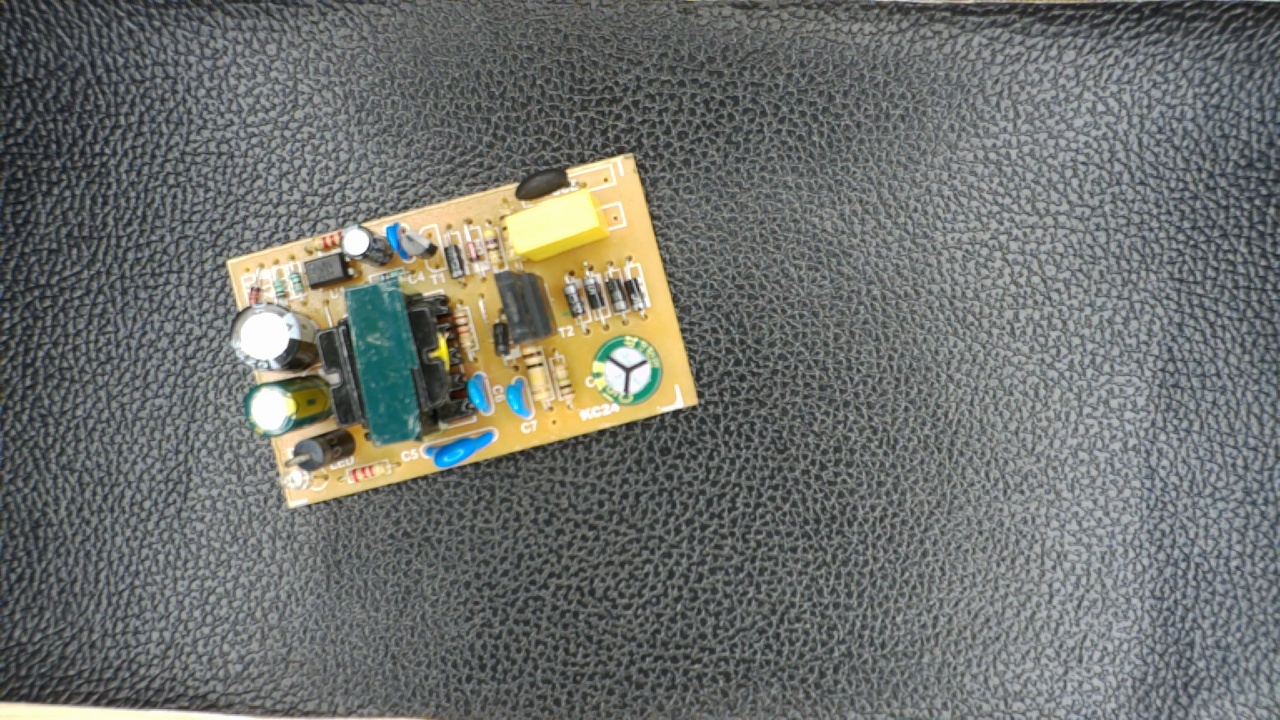fuse: (510, 170, 585, 200)
hv_capacitor: (587, 335, 662, 405)
mov: (417, 431, 503, 470)
optocoupler: (293, 252, 366, 291)
